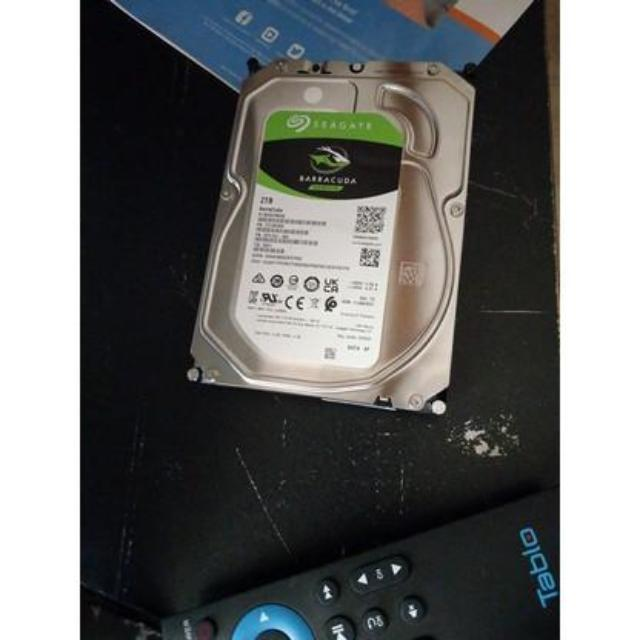DISK: (183, 54, 469, 418)
